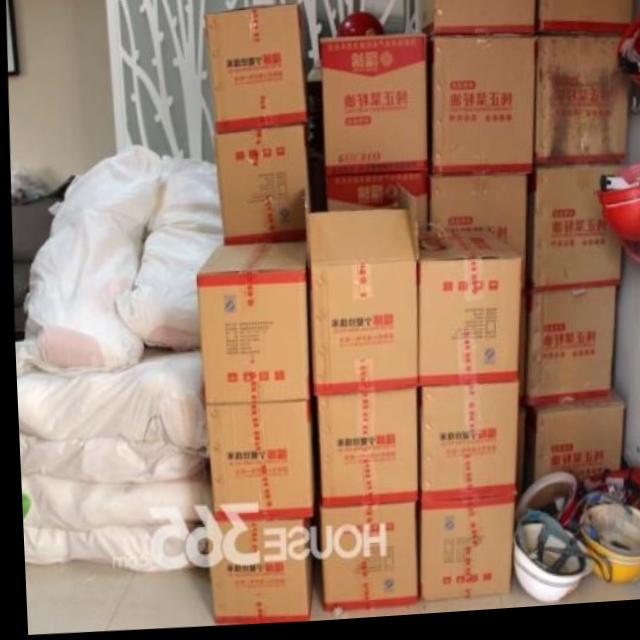box: (304, 188, 416, 400), (405, 198, 518, 392), (194, 246, 306, 406), (319, 40, 427, 185), (429, 43, 534, 181), (204, 6, 309, 136), (201, 403, 308, 523), (531, 43, 626, 174), (198, 521, 309, 628), (312, 392, 413, 508), (528, 170, 622, 294), (414, 386, 513, 503), (213, 127, 308, 247), (428, 181, 524, 298), (313, 505, 413, 614), (521, 293, 612, 411), (413, 502, 510, 607), (520, 390, 621, 489), (421, 0, 538, 43), (536, 0, 632, 43), (324, 178, 424, 216)
